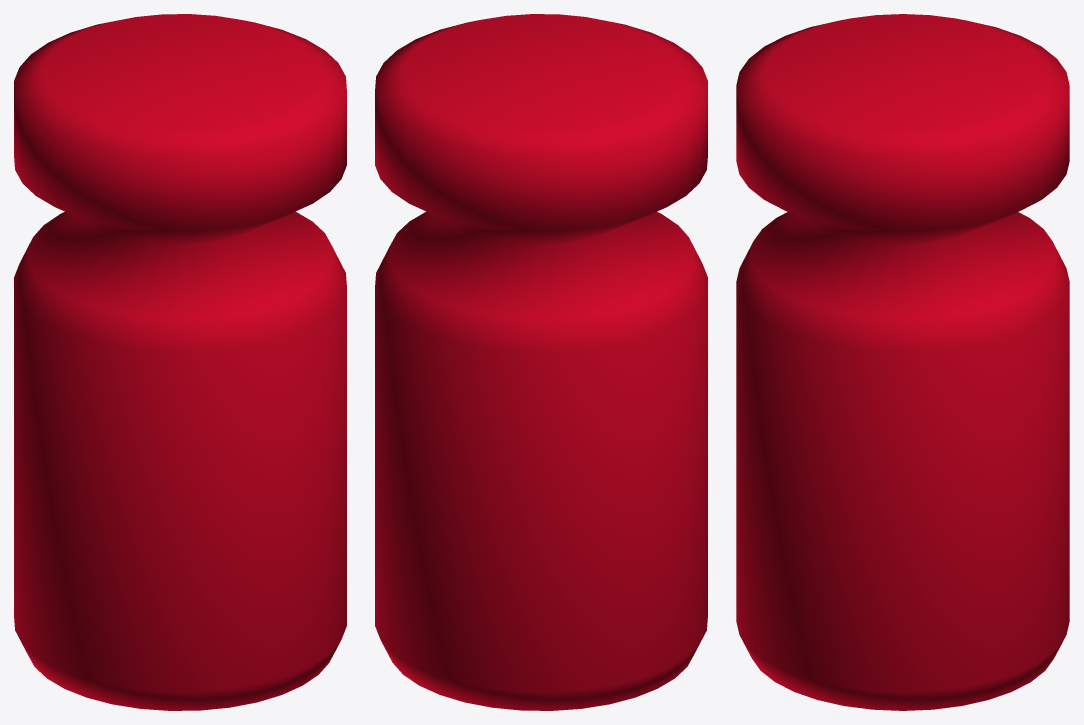
Rendered from turkish.gltf.
3 renders of one model, left to right at view 1: azimuth 30°, elevation 25°; view 2: azimuth 150°, elevation 25°; view 3: azimuth 270°, elevation 25°, orthographic.
Bounding box in the file's own units: 1.07 × 2.02 × 1.07.
